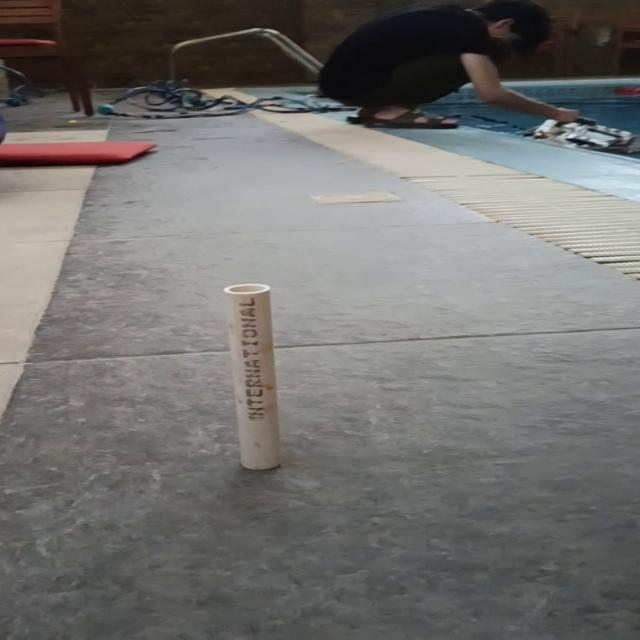Cube: (221, 282, 283, 470)
